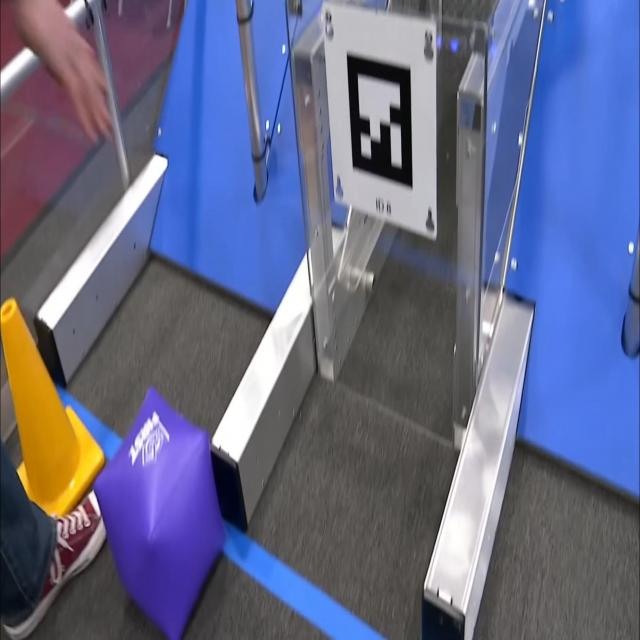frc_cone: (0, 298, 104, 527)
frc_cube: (95, 386, 226, 640)
